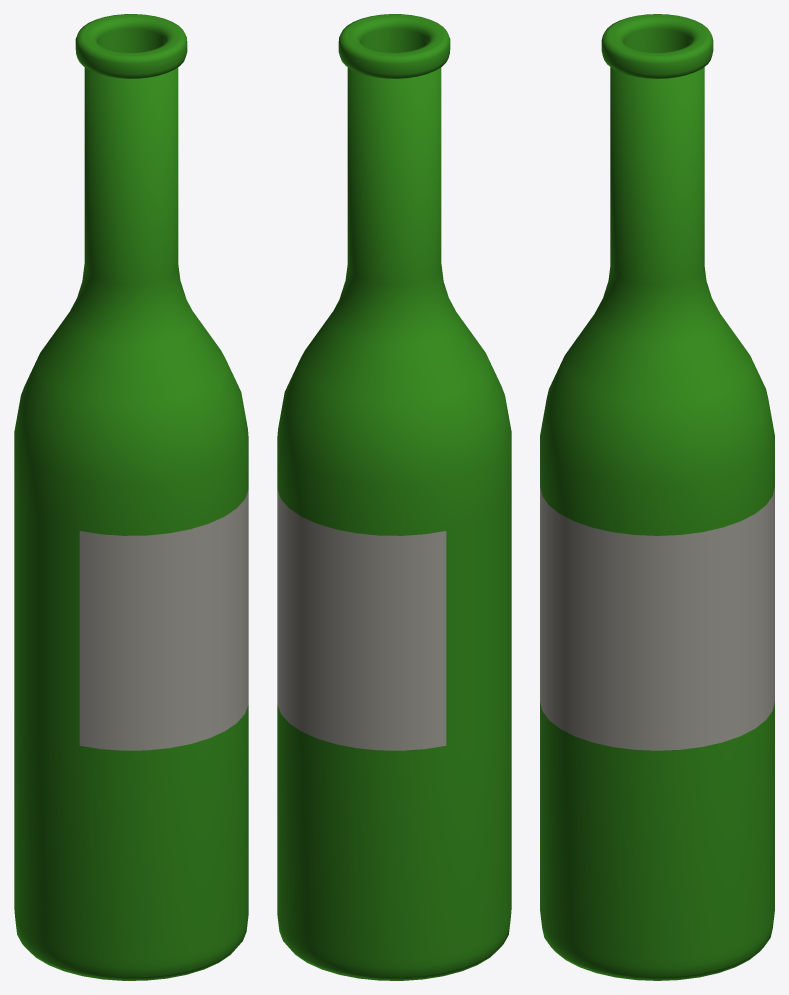
The model's file is Flasche.fbx.
The picture shows the model from 3 angles, left to right: view 1: azimuth 30°, elevation 25°; view 2: azimuth 150°, elevation 25°; view 3: azimuth 270°, elevation 25°; orthographic projection.
Visible parts, largest first — view 1: Flasche; view 2: Flasche; view 3: Flasche.
Part boxes in pixels (<box>): Flasche: <box>14,14,248,980</box>; Flasche: <box>277,14,511,980</box>; Flasche: <box>540,14,774,980</box>.
Bounding box in the file's own units: 91.7 × 387 × 91.71.
